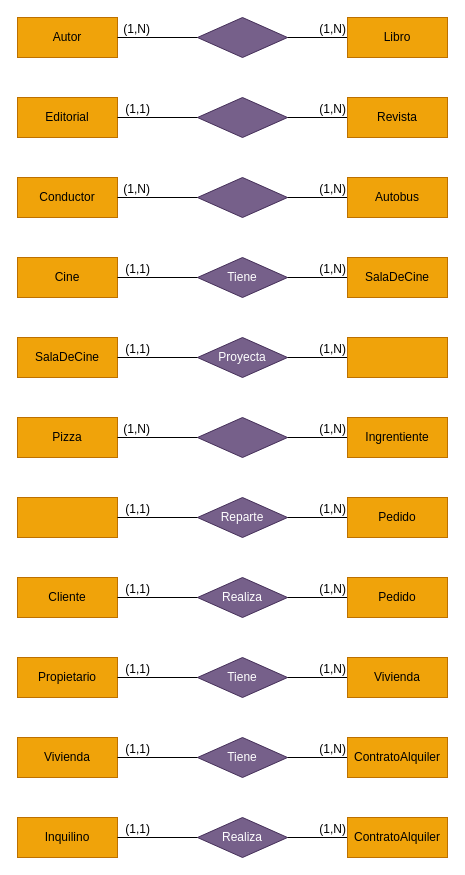
Some shapes in this 465 by 875 pixel diagram are drawn without their labels. Here are the shapes that lost their labels. From the top down, the box of each, then its label:
(196, 16, 288, 58): Escribe
(196, 96, 288, 138): Edita
(196, 176, 288, 218): Conduce
(346, 336, 448, 378): Pelicula
(196, 416, 288, 458): Contiene
(16, 496, 118, 538): Repartidor
